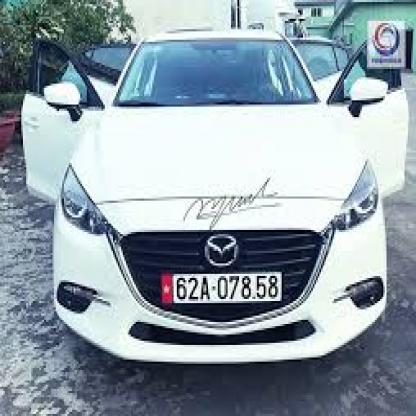biensoxe: (160, 271, 282, 305)
